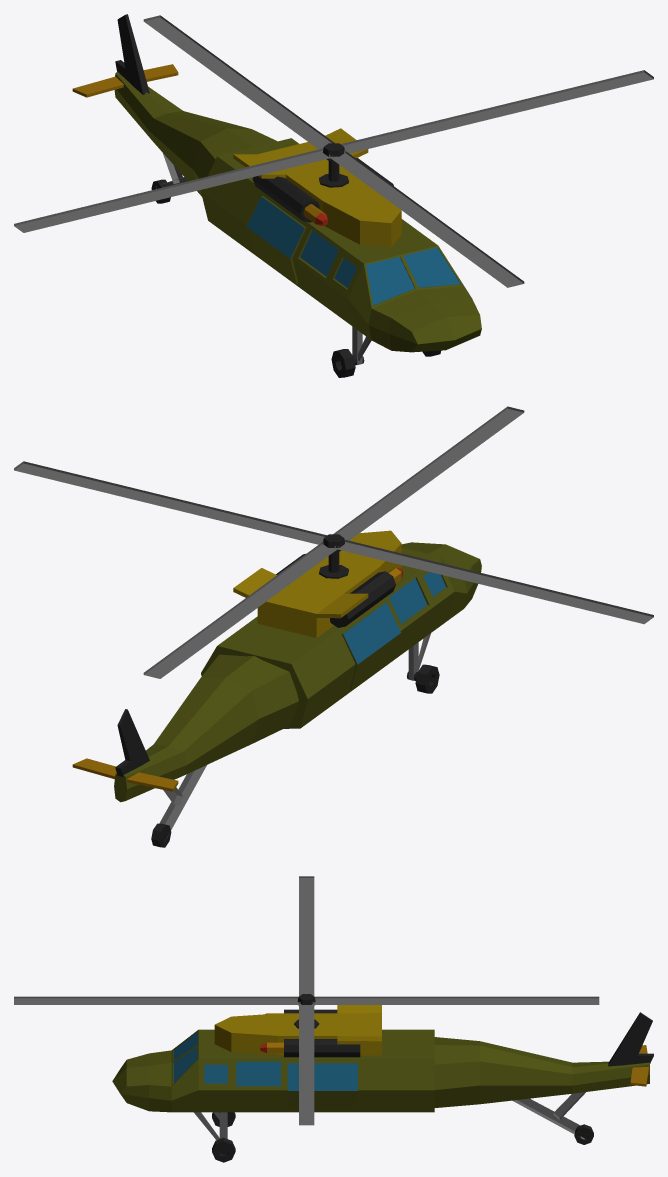
The model's file is helicopter.glb.
The picture shows the model from 3 angles, top to bottom: view 1: azimuth 30°, elevation 25°; view 2: azimuth 150°, elevation 25°; view 3: azimuth 270°, elevation 25°; orthographic projection. The views are drawn at different scales.
Parts seen in each view (by area): view 1: AirCraft_af79e8, AirCraft_72ca23, AirCraft_f49b02, AirCraft_42cfd7, AirCraft_80a702, AirCraft_cd293b; view 2: AirCraft_af79e8, AirCraft_72ca23, AirCraft_f49b02, AirCraft_80a702, AirCraft_42cfd7, AirCraft_cd293b; view 3: AirCraft_af79e8, AirCraft_72ca23, AirCraft_f49b02, AirCraft_42cfd7, AirCraft_80a702, AirCraft_cd293b.
Part boxes in pixels (x1=…): AirCraft_af79e8: x1=114, y1=71, x2=481, y2=352; AirCraft_72ca23: x1=14, y1=15, x2=653, y2=364; AirCraft_f49b02: x1=233, y1=128, x2=401, y2=247; AirCraft_42cfd7: x1=246, y1=196, x2=460, y2=305; AirCraft_80a702: x1=115, y1=14, x2=440, y2=377; AirCraft_cd293b: x1=72, y1=64, x2=325, y2=223; AirCraft_af79e8: x1=114, y1=542, x2=481, y2=802; AirCraft_72ca23: x1=14, y1=406, x2=653, y2=840; AirCraft_f49b02: x1=233, y1=530, x2=401, y2=637; AirCraft_80a702: x1=115, y1=534, x2=439, y2=847; AirCraft_42cfd7: x1=343, y1=572, x2=445, y2=664; AirCraft_cd293b: x1=72, y1=568, x2=401, y2=791; AirCraft_af79e8: x1=112, y1=1029, x2=649, y2=1112; AirCraft_72ca23: x1=14, y1=876, x2=599, y2=1140; AirCraft_f49b02: x1=214, y1=1005, x2=381, y2=1055; AirCraft_42cfd7: x1=173, y1=1032, x2=357, y2=1090; AirCraft_80a702: x1=212, y1=994, x2=653, y2=1162; AirCraft_cd293b: x1=267, y1=1013, x2=648, y2=1086.
Bounding box in the file's own units: 41.34 × 11.41 × 45.2.
